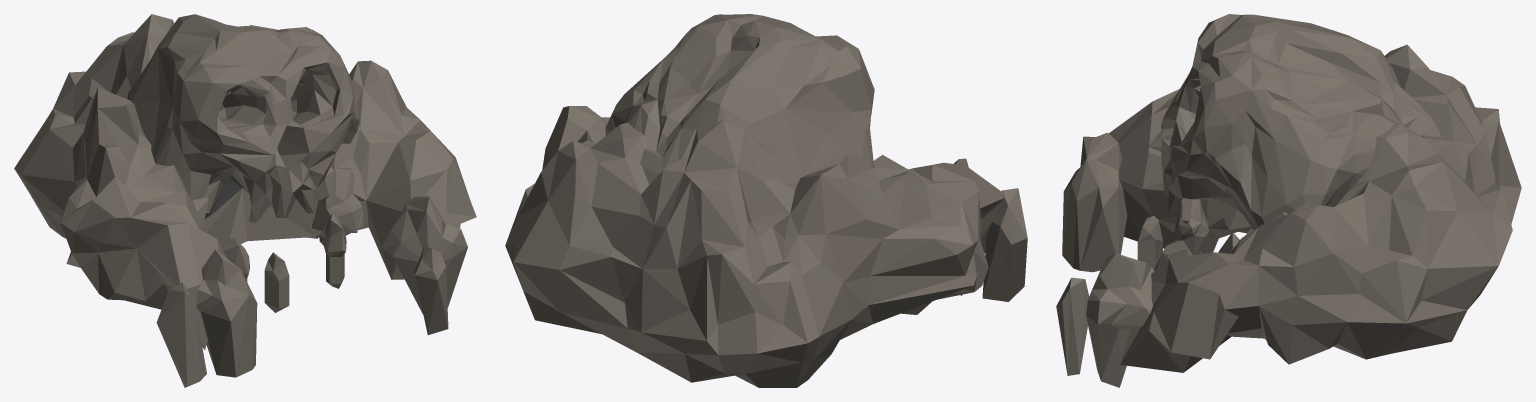
The model's file is SM_Env_Rock_Skull_01.fbx.
The picture shows the model from 3 angles, left to right: view 1: azimuth 30°, elevation 25°; view 2: azimuth 150°, elevation 25°; view 3: azimuth 270°, elevation 25°; orthographic projection. The views are drawn at different scales.
Parts seen in each view (by area): view 1: SM_Env_Rock_Skull_01; view 2: SM_Env_Rock_Skull_01; view 3: SM_Env_Rock_Skull_01.
Part boxes in pixels (left/top/right/bottom): SM_Env_Rock_Skull_01: left=14, top=14, right=476, bottom=387; SM_Env_Rock_Skull_01: left=505, top=14, right=1027, bottom=387; SM_Env_Rock_Skull_01: left=1056, top=14, right=1521, bottom=387.
Bounding box in the file's own units: 20.05 × 13.46 × 19.2.
